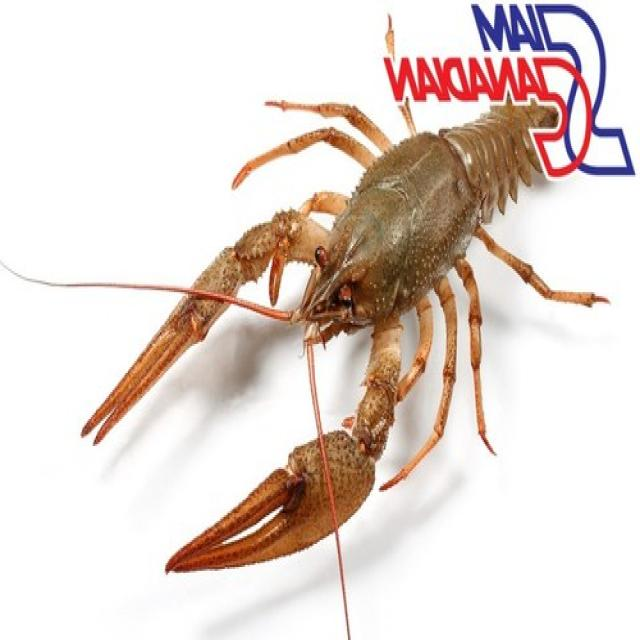Crawfish: (196, 105, 558, 521), (170, 446, 331, 570), (85, 298, 222, 440)
